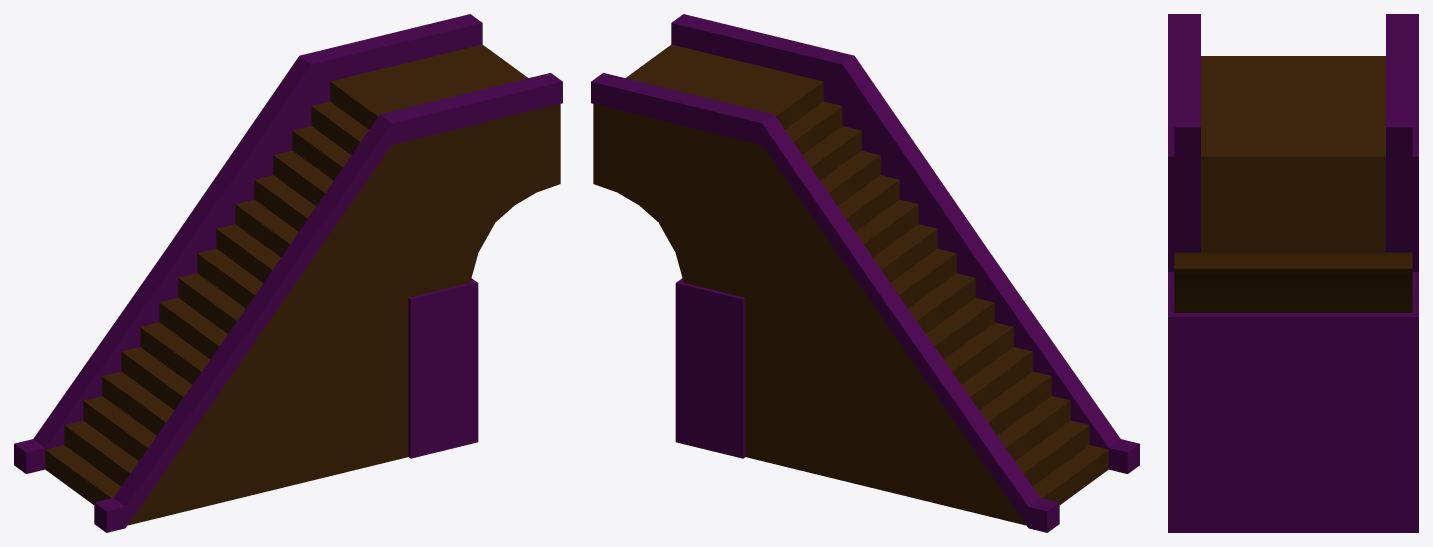
Rendered from Bridge_Stairs_01.FBX.
The picture shows the model from 3 angles, left to right: view 1: azimuth 30°, elevation 25°; view 2: azimuth 150°, elevation 25°; view 3: azimuth 270°, elevation 25°; orthographic projection. The views are drawn at different scales.
Visible parts, largest first — view 1: Bridge_Stairs_01; view 2: Bridge_Stairs_01; view 3: Bridge_Stairs_01.
Part boxes in pixels (x1=…): Bridge_Stairs_01: x1=14, y1=14, x2=562, y2=532; Bridge_Stairs_01: x1=591, y1=14, x2=1139, y2=532; Bridge_Stairs_01: x1=1168, y1=14, x2=1418, y2=532.
Bounding box in the file's own units: 1200 × 854 × 421.
